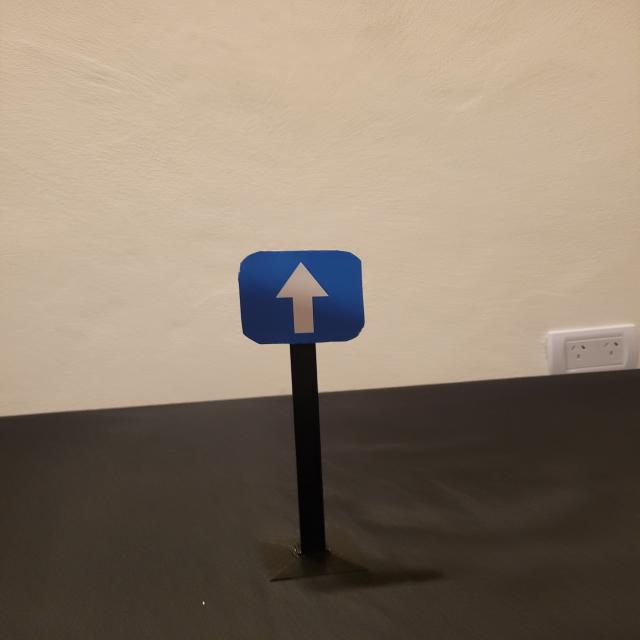one_way: (238, 248, 366, 345)
